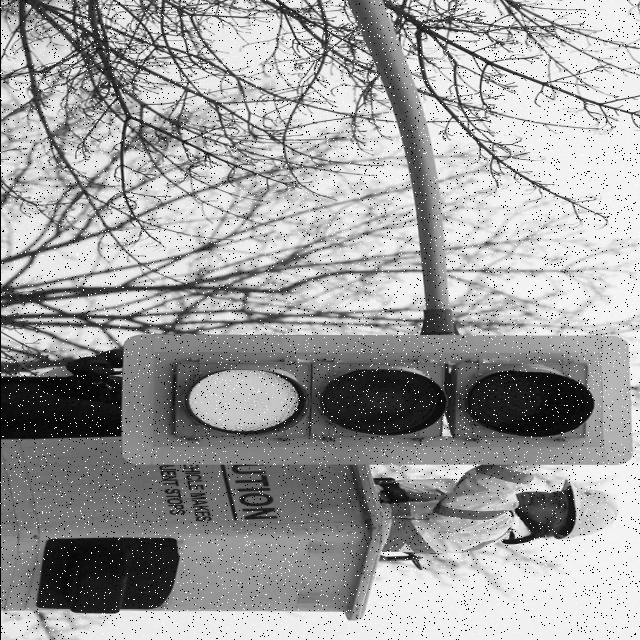green: (162, 360, 600, 442)
